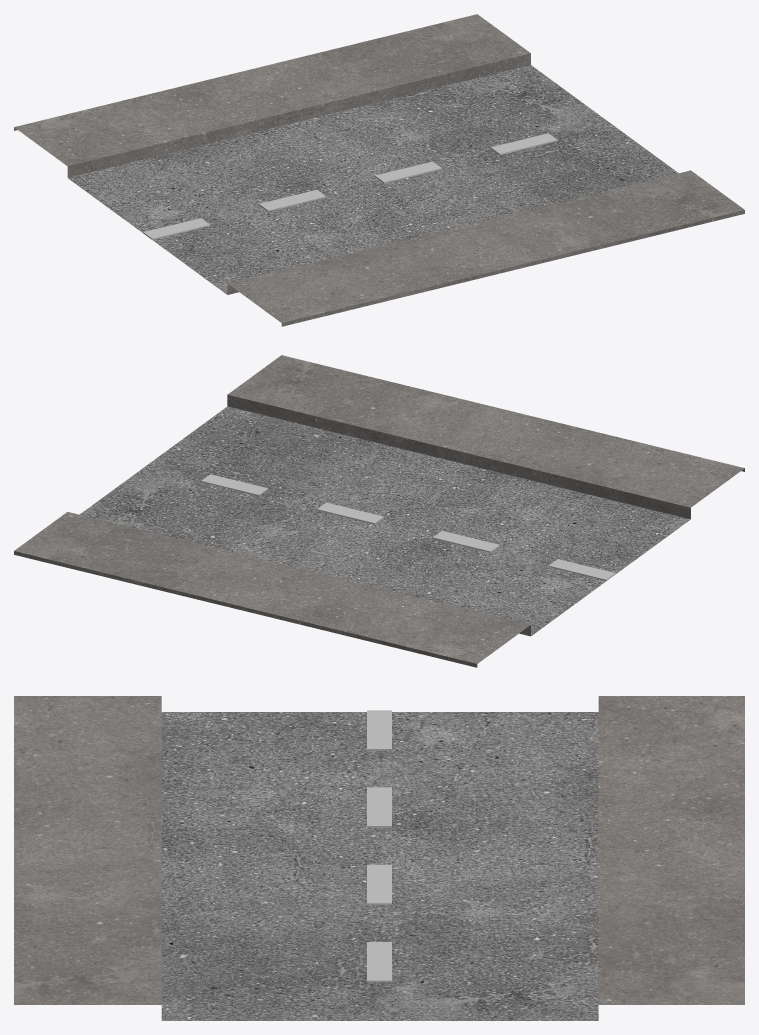
The model's file is straight_street.fbx.
The picture shows the model from 3 angles, top to bottom: view 1: azimuth 30°, elevation 25°; view 2: azimuth 150°, elevation 25°; view 3: azimuth 270°, elevation 25°; orthographic projection. The views are drawn at different scales.
Parts seen in each view (by area): view 1: Street_straight; view 2: Street_straight; view 3: Street_straight.
Boxes of the visible parts, left/top/right/bottom form: Street_straight: left=14, top=14, right=744, bottom=326; Street_straight: left=14, top=355, right=744, bottom=667; Street_straight: left=14, top=696, right=744, bottom=1020.
Bounding box in the file's own units: 10 × 10 × 0.2403.
Materials: 3 (2 with a texture image).
